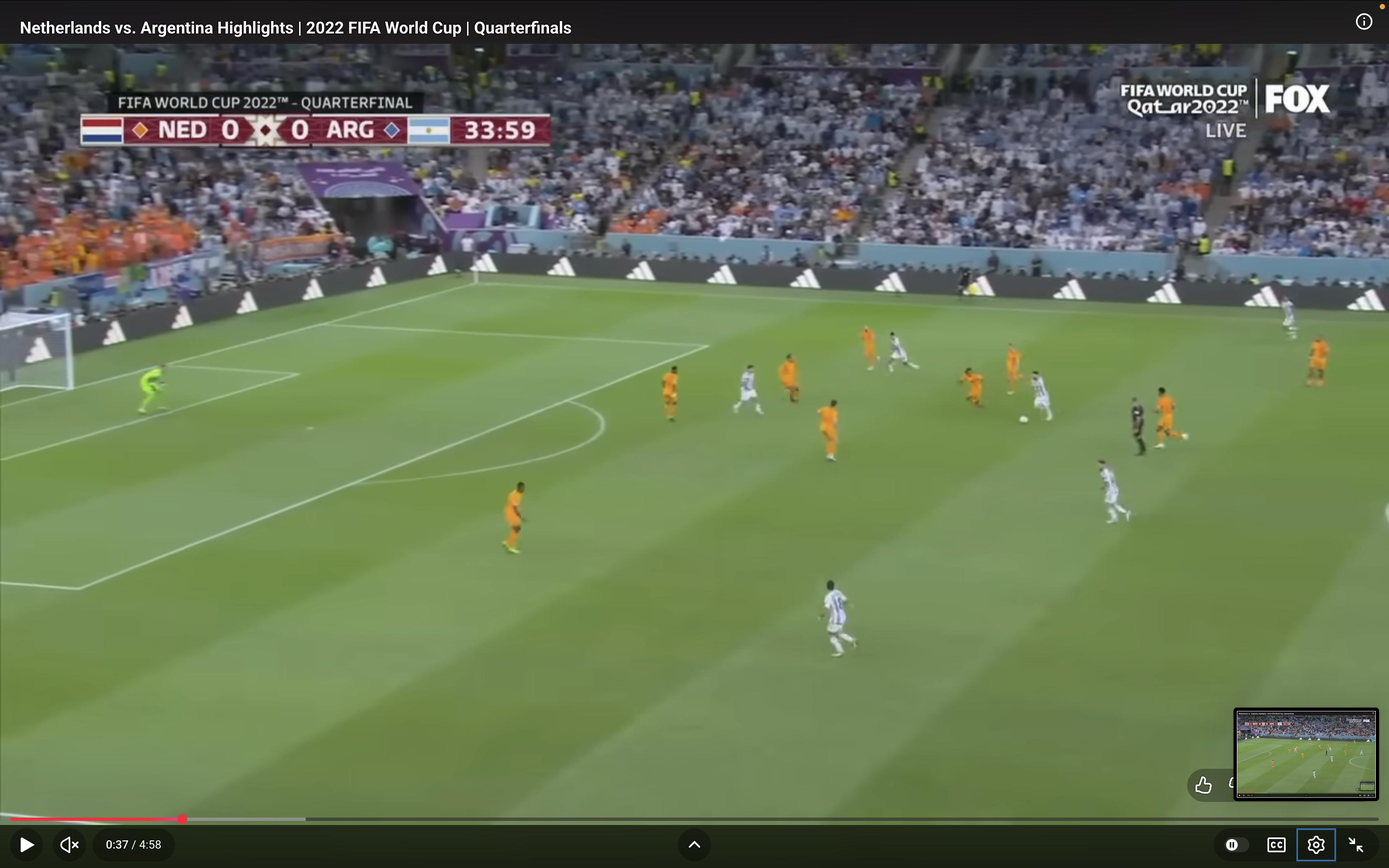ball: (1019, 415, 1029, 424)
goalkeeper: (138, 365, 166, 414)
player: (821, 580, 857, 657), (1099, 460, 1131, 523), (1155, 387, 1188, 448), (504, 482, 525, 554), (733, 365, 763, 414), (888, 332, 919, 373), (818, 400, 838, 461), (1306, 337, 1329, 387), (1031, 371, 1054, 421), (778, 354, 800, 403), (661, 366, 678, 422), (960, 367, 983, 408), (1005, 344, 1021, 395), (862, 326, 879, 371), (1280, 296, 1297, 339)
referee: (1131, 396, 1145, 455)
